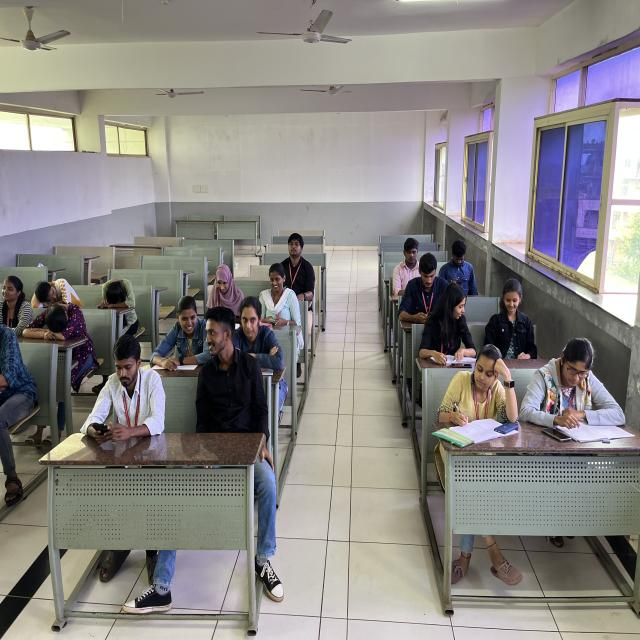Reading: (544, 331, 628, 434)
Sleeping: (91, 263, 150, 327), (22, 298, 94, 348), (24, 267, 83, 309)
Using Phone: (76, 330, 171, 438), (402, 256, 452, 328), (442, 228, 492, 298), (256, 255, 302, 331)
Writing: (425, 333, 504, 446)
